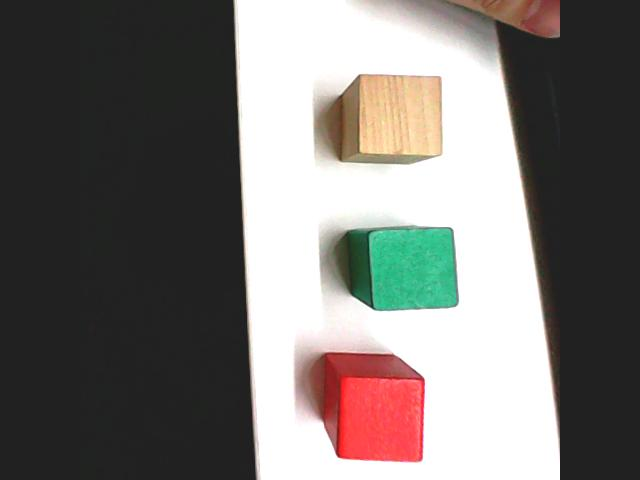green_box: (343, 222, 463, 314)
raw_box: (336, 71, 447, 166)
red_box: (318, 349, 430, 466)
